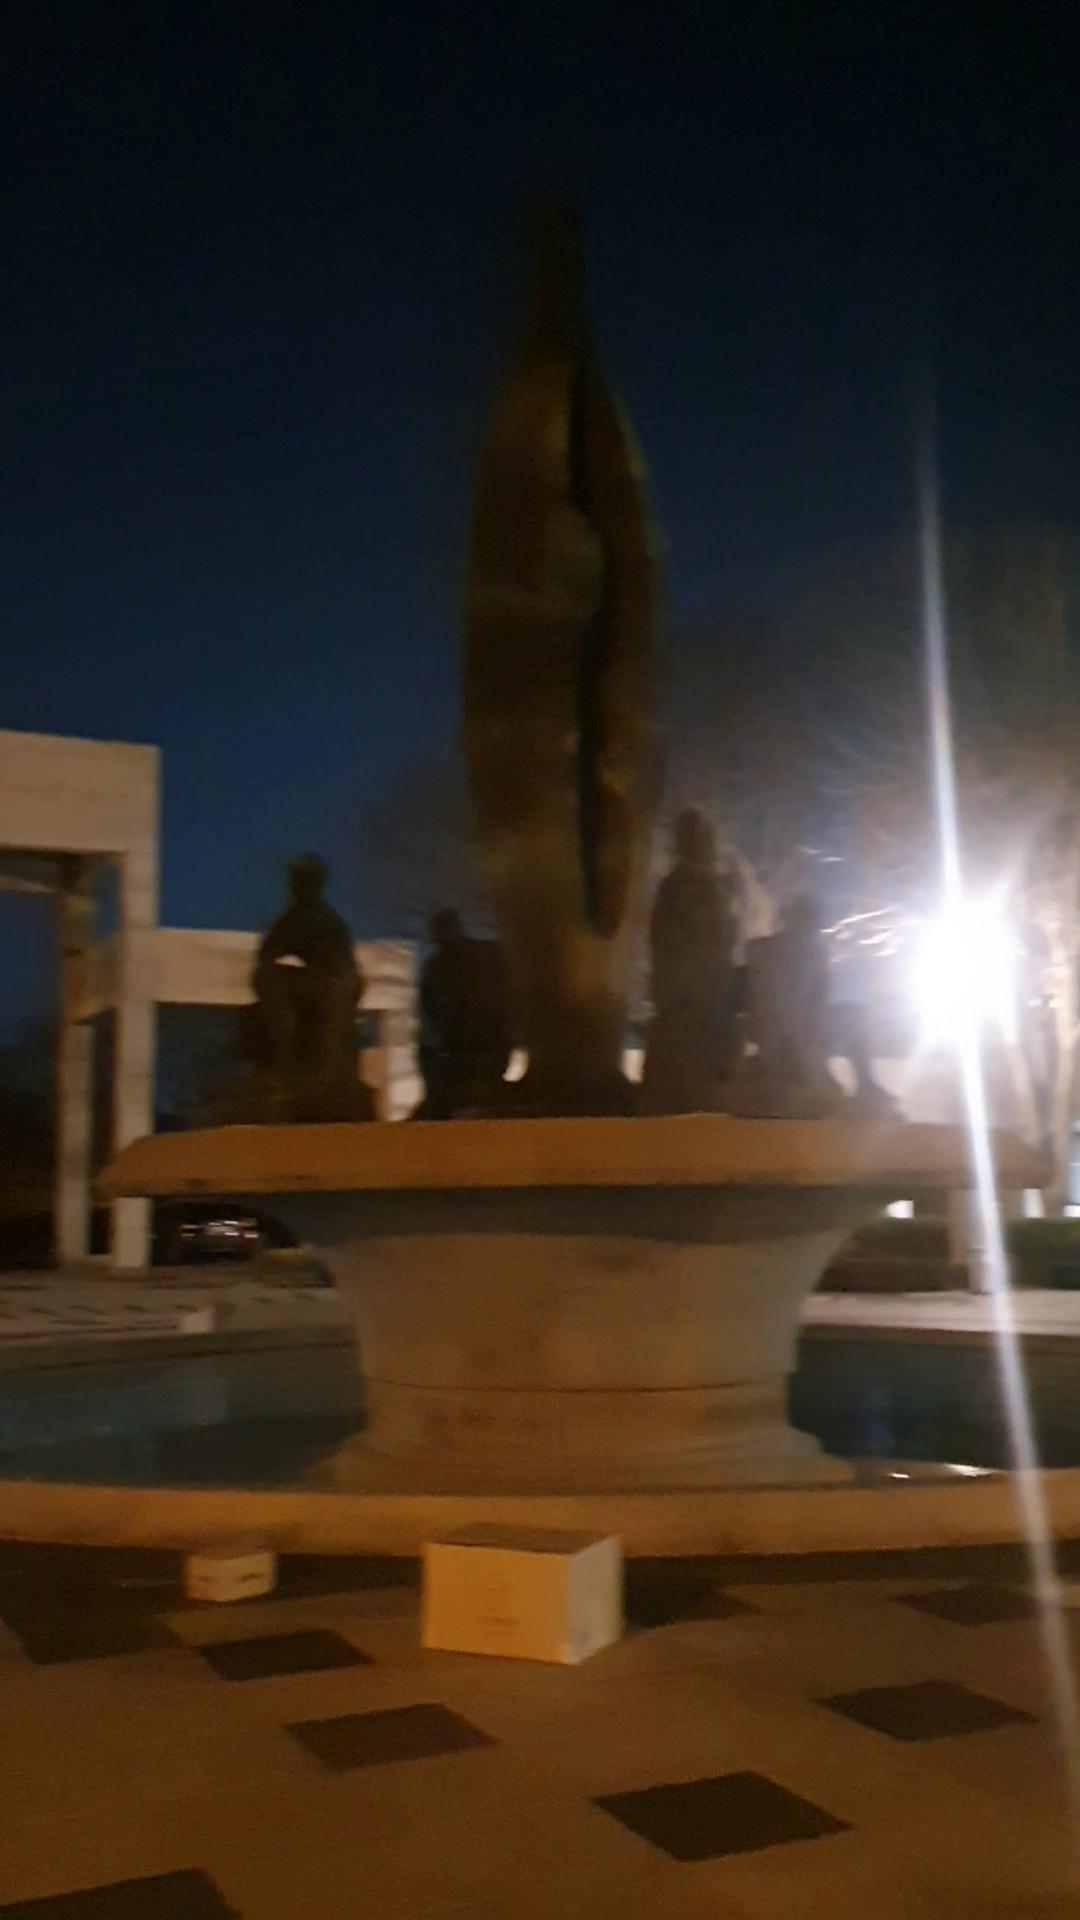Box: (418, 1509, 626, 1665), (173, 1520, 282, 1602)
